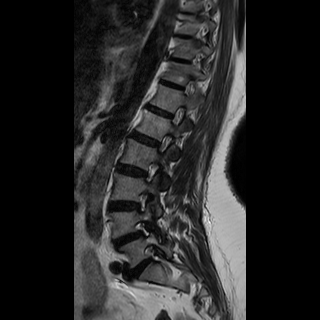LFS0: (131, 186, 156, 215), (152, 129, 177, 156), (141, 154, 162, 186)
LFS1: (129, 216, 158, 241)
